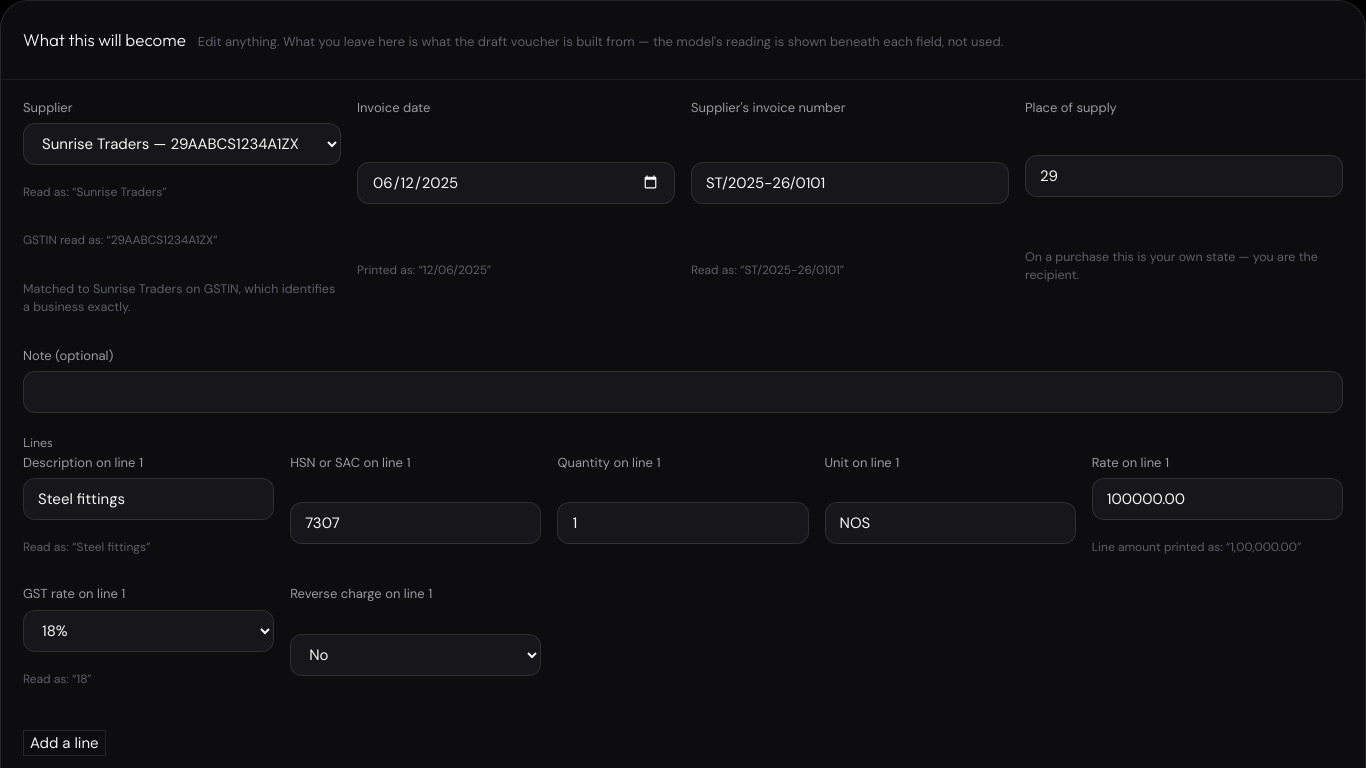
ReviewForm › lets a line be added and removed
Expected: the field labelled "Description on line 2" is not shown
Click the button "Add a line": (64, 743) [23,730,106,756]
(page scrolled)
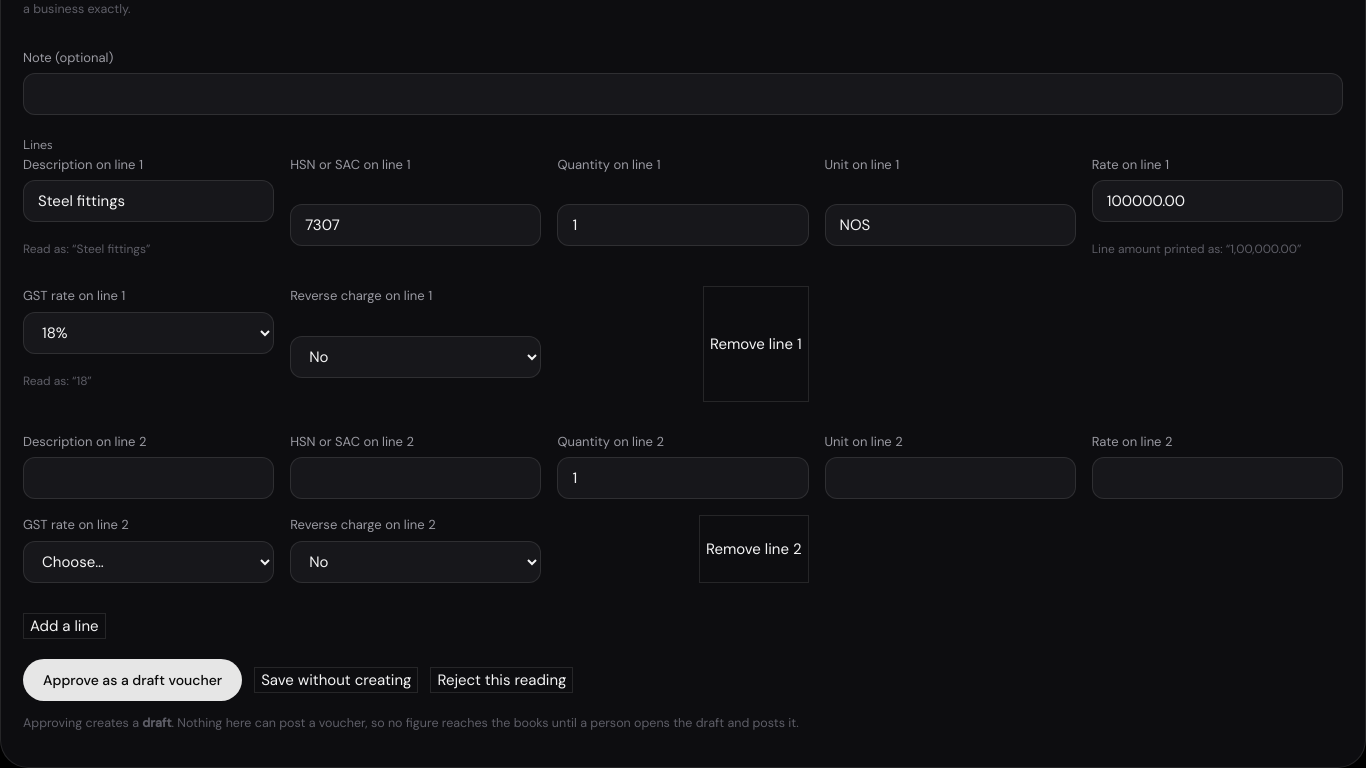
Result: the field labelled "Description on line 2" is shown at [23,457,274,499]
Click the button "Remove line 2": (754, 549) [699,515,809,582]
(page scrolled)
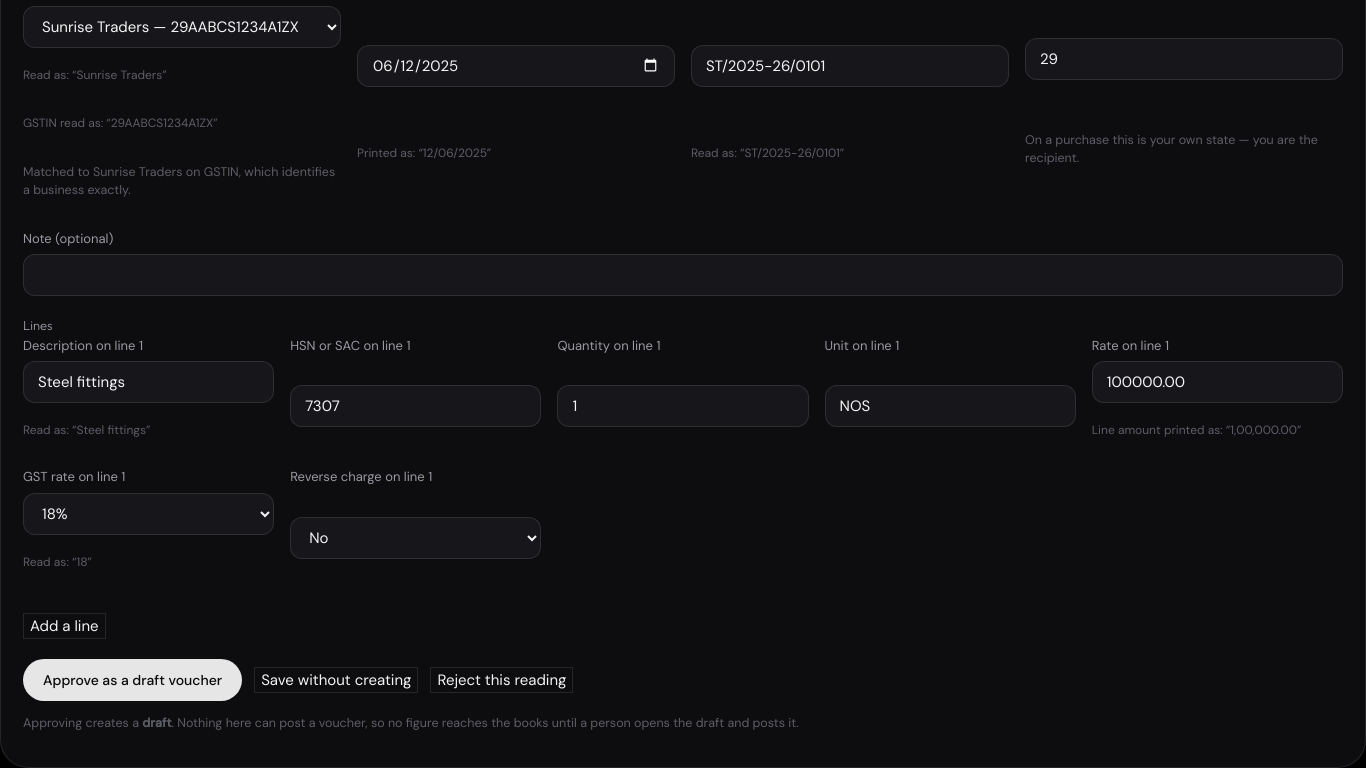
Result: the label labelled "Description on line 2" is gone
